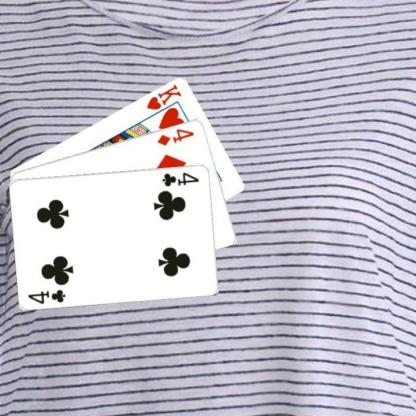4C: (25, 287, 67, 305), (160, 169, 201, 187)
4D: (155, 126, 195, 147)
KH: (144, 81, 182, 111)
